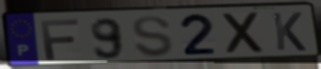2: (177, 12, 220, 58)
9: (89, 16, 125, 60)
F: (38, 18, 82, 62)
K: (270, 11, 309, 53)
S: (131, 15, 176, 59)
X: (220, 10, 268, 57)
